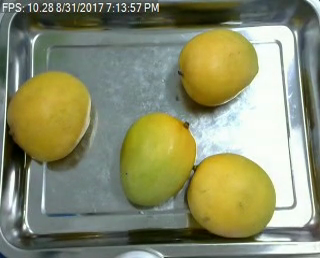Mango: (4, 70, 90, 163), (189, 150, 278, 238), (119, 110, 195, 209), (177, 26, 262, 111)
